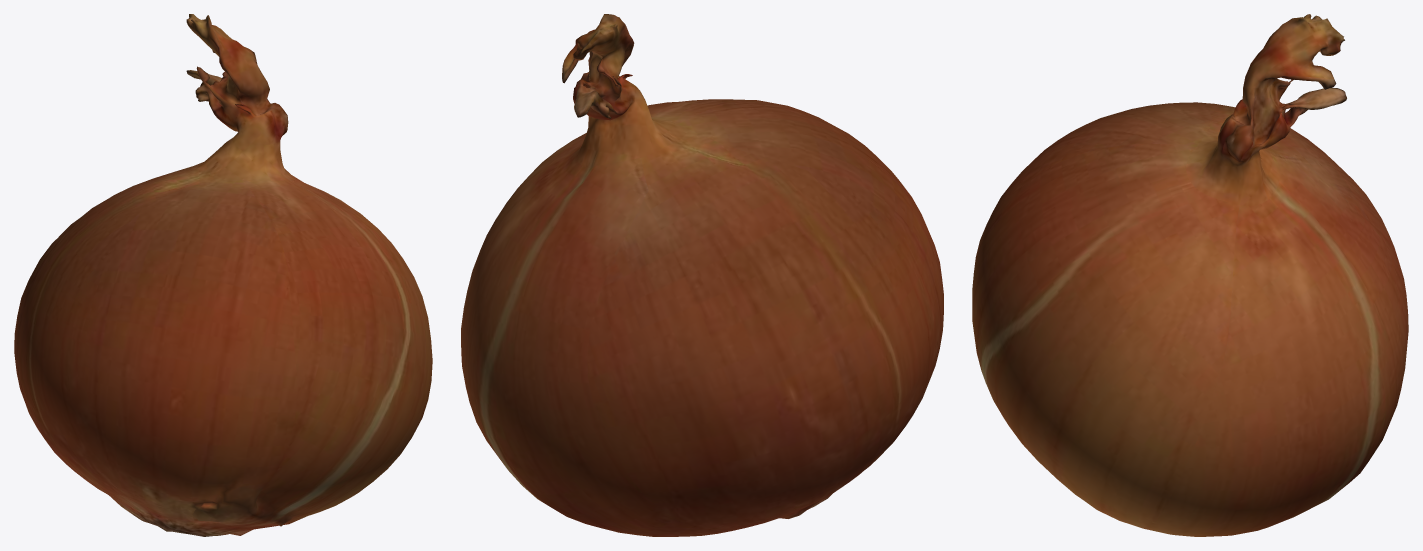
Rendered from ph_yellow_onion.glb.
3 views of the same model, side by side, from view 1: azimuth 30°, elevation 25°; view 2: azimuth 150°, elevation 25°; view 3: azimuth 270°, elevation 25° (orthographic). The views are drawn at different scales.
Visible parts, largest first — view 1: yellow_onion; view 2: yellow_onion; view 3: yellow_onion.
Part boxes in pixels (x1,y1,x2,y2): yellow_onion: [14, 14, 432, 536]; yellow_onion: [461, 14, 943, 536]; yellow_onion: [972, 14, 1408, 536].
Size of the model in its own units: 0.0725 by 0.0864 by 0.0686.
Materials: 1 (1 with a texture image).
